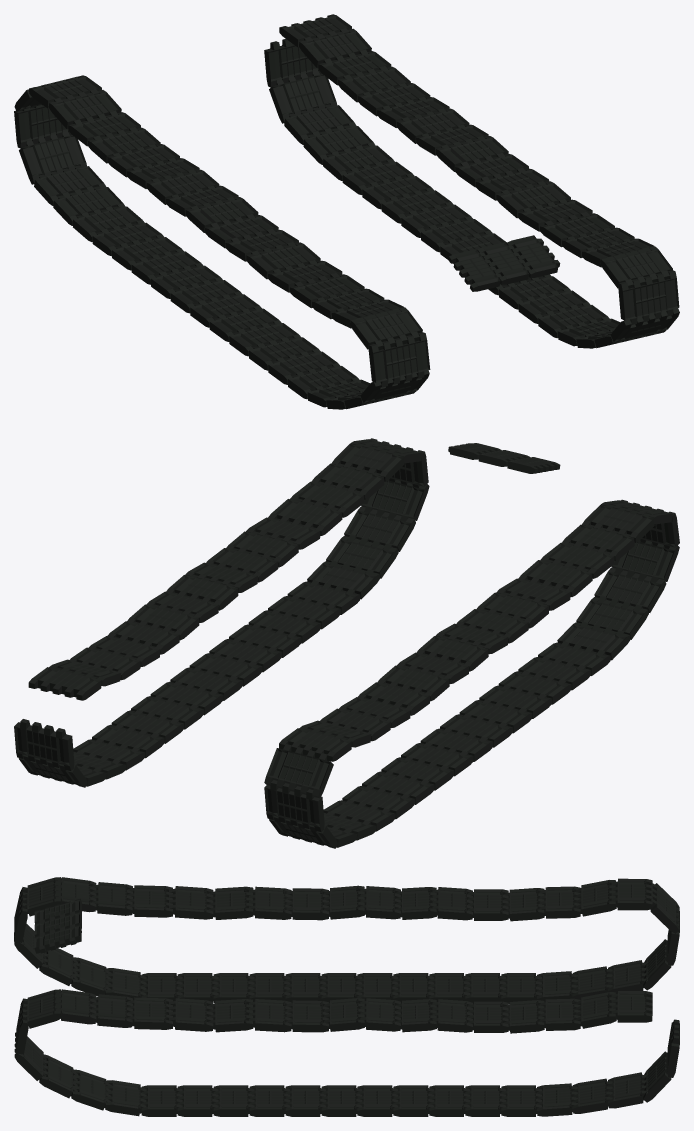
Rendered from t34_85_hull_m1.obj.
3 renders of one model, top to bottom at view 1: azimuth 30°, elevation 25°; view 2: azimuth 150°, elevation 25°; view 3: azimuth 270°, elevation 25°, orthographic. The views are drawn at different scales.
Visible parts, largest first — view 1: t34_85_hull_m1; view 2: t34_85_hull_m1; view 3: t34_85_hull_m1.
Boxes of the visible parts, <box> form: t34_85_hull_m1: <box>14,14,679,409</box>; t34_85_hull_m1: <box>14,438,679,848</box>; t34_85_hull_m1: <box>14,877,679,1116</box>.
Size of the model in its own units: 2.75 by 1.24 by 5.67.
1 material, 1 textured.
